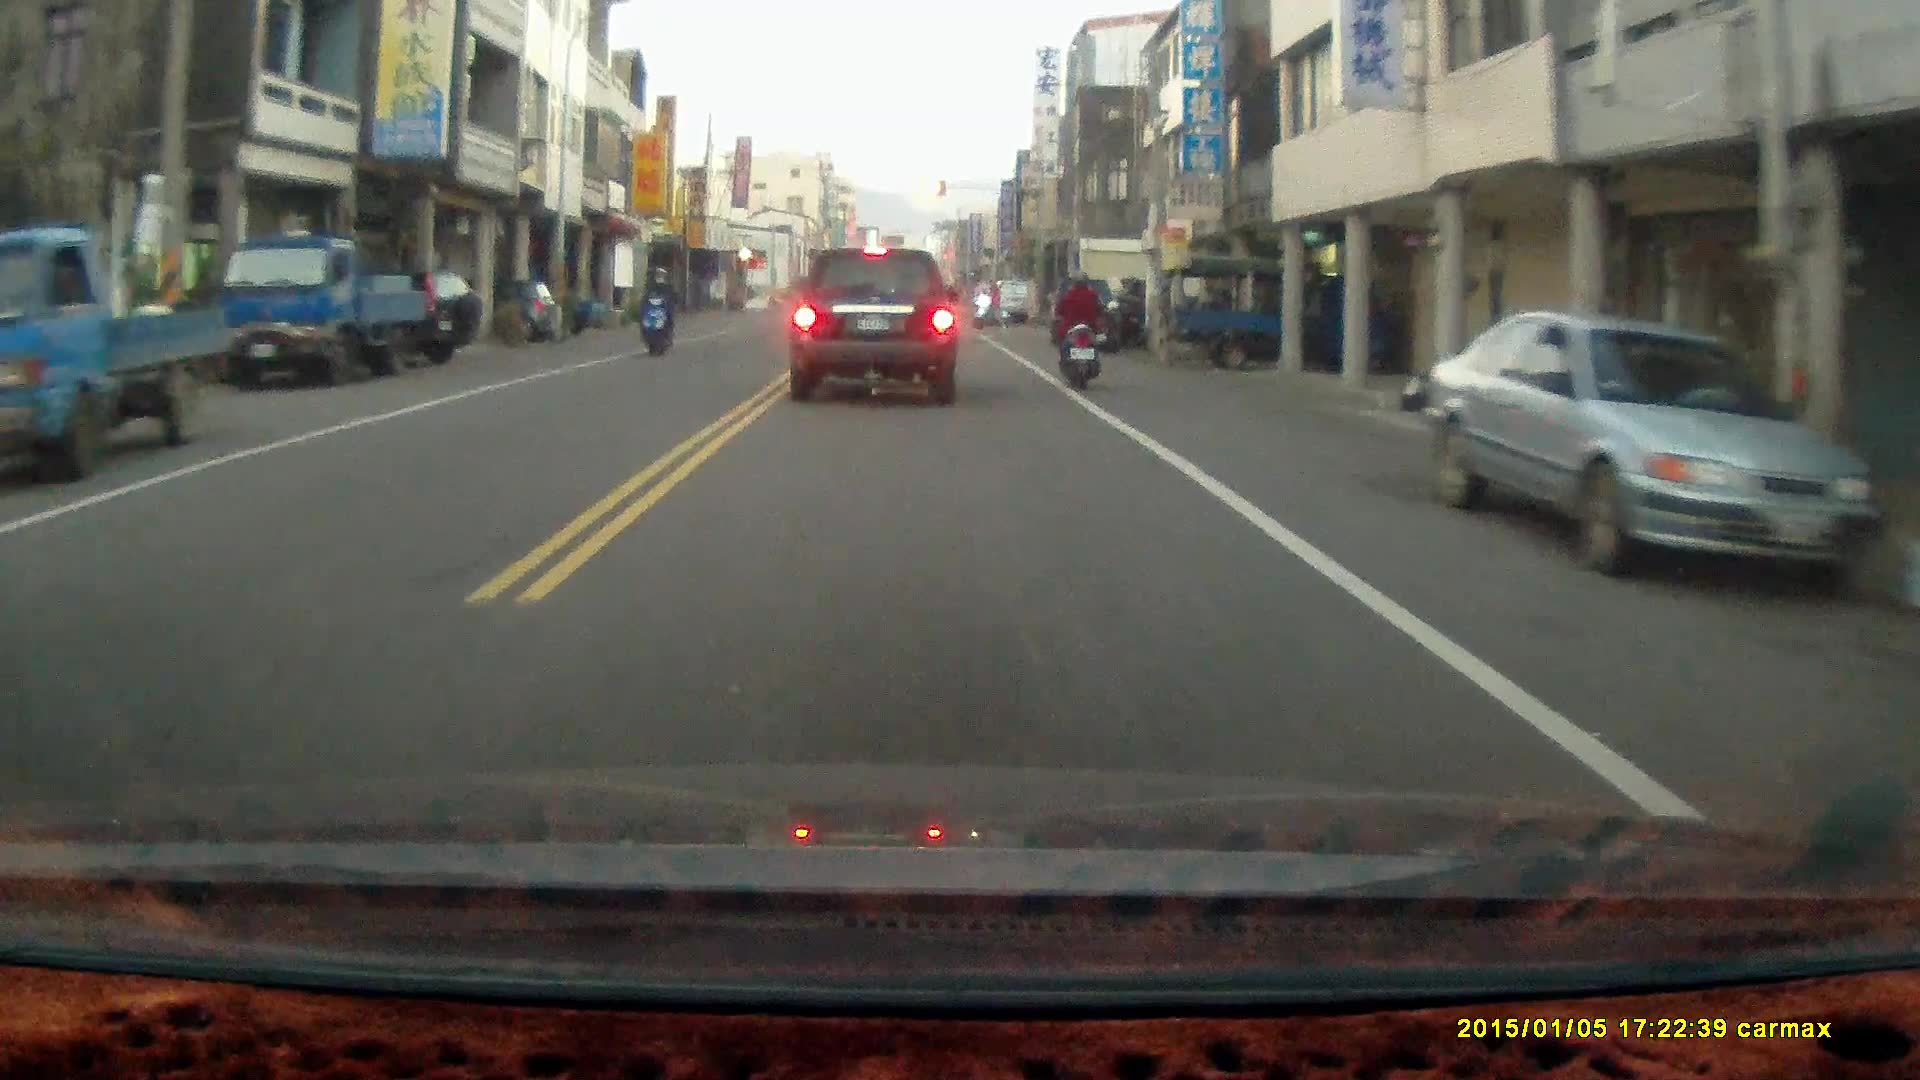rider: (1052, 271, 1102, 394), (634, 266, 677, 360), (971, 280, 1010, 329)
vehicle: (1420, 309, 1885, 591), (1, 234, 248, 477), (1163, 259, 1414, 382), (218, 245, 426, 390), (787, 250, 960, 410)
